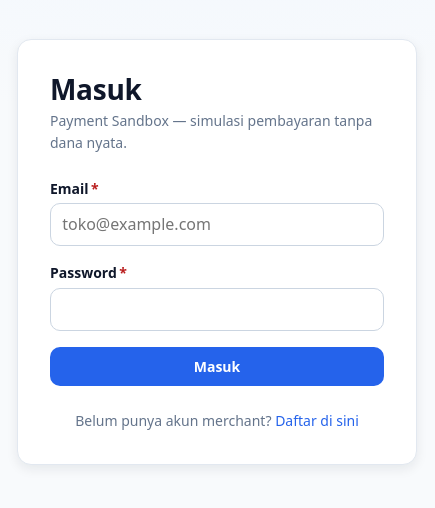
Test case: client-side validation (SRS §4.5) › requires both fields
Click the button "Masuk" at (217, 366), box [50,347,384,386]
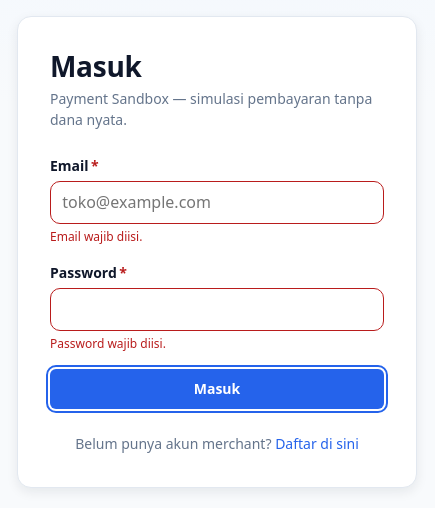
Check: the text "Email wajib diisi." is shown, box [50,228,142,244]
Check: the text "Password wajib diisi." is shown, box [50,335,166,352]
